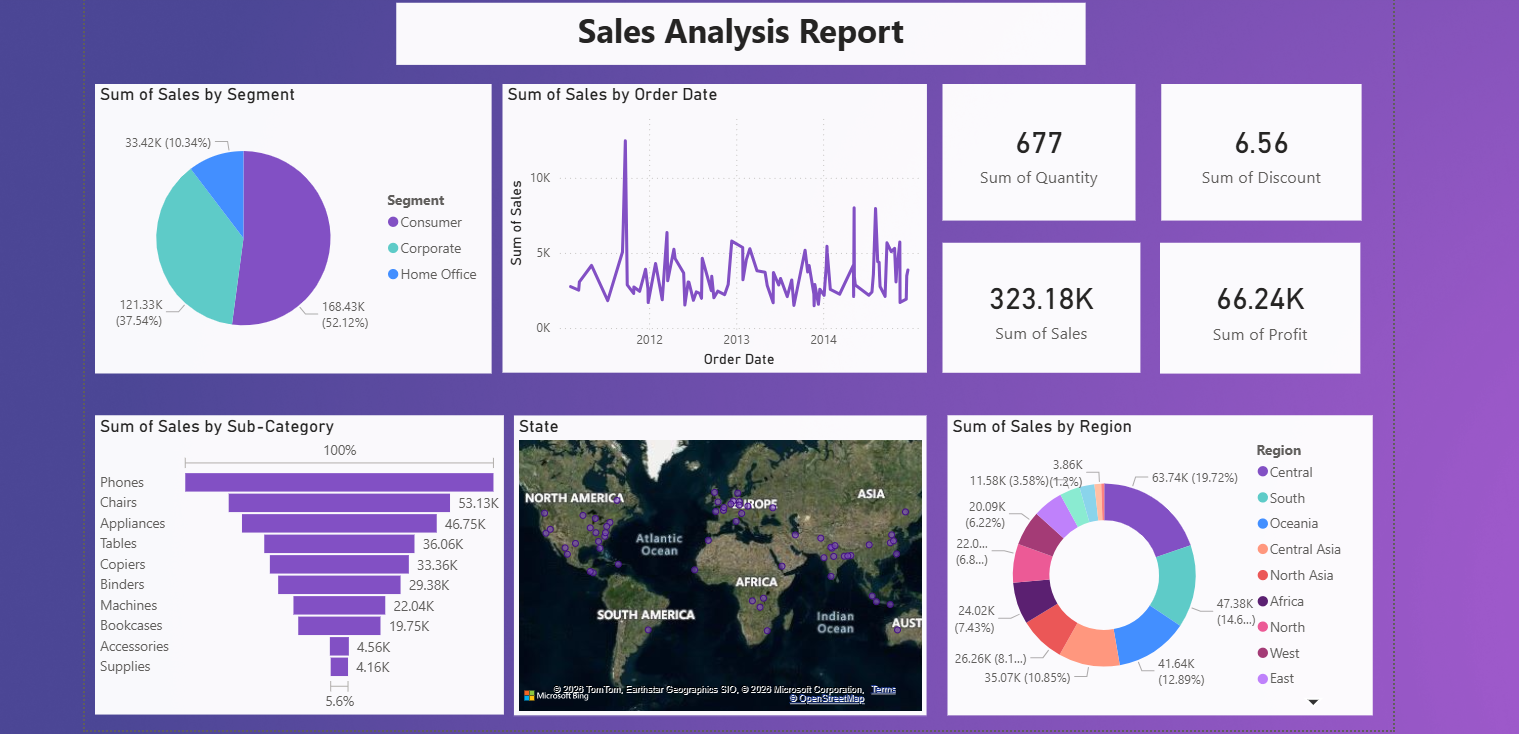

Layout of this report page (visuals, bound fields, positions):
{"tool":"powerbi","page":{"name":"Page 1","canvas":[1280,720],"ordinal":0},"visuals":[{"type":"donutChart","fields":{"Category":["Global-Superstore-PBI.Region"],"Y":["Sum(Global-Superstore-PBI.Sales)"]},"box":[843.2,412.3,416,293.8],"z":0},{"type":"funnel","fields":{"Category":["Global-Superstore-PBI.Sub-Category"],"Y":["Sum(Global-Superstore-PBI.Sales)"]},"box":[9.9,412.7,400,293],"z":1000},{"type":"pieChart","fields":{"Category":["Global-Superstore-PBI.Segment"],"Y":["Sum(Global-Superstore-PBI.Sales)"]},"box":[9.8,87.8,387.8,282.9],"z":2000},{"type":"lineChart","fields":{"Category":["Global-Superstore-PBI.Order Date"],"Y":["Sum(Global-Superstore-PBI.Sales)"]},"box":[408.6,87.7,414.8,282.7],"z":3000},{"type":"card","fields":{"Values":["Sum(Global-Superstore-PBI.Sales)"]},"box":[838.3,243.2,193.8,127.2],"z":4000},{"type":"card","fields":{"Values":["Sum(Global-Superstore-PBI.Profit)"]},"box":[1051.9,243.2,196.3,128.4],"z":5000},{"type":"card","fields":{"Values":["Sum(Global-Superstore-PBI.Quantity)"]},"box":[838.3,87.7,188.9,133.3],"z":6000},{"type":"card","fields":{"Values":["Sum(Global-Superstore-PBI.Discount)"]},"box":[1053.1,87.7,196.3,133.3],"z":7000},{"type":"map","fields":{"Category":["Global-Superstore-PBI.State"]},"box":[419.8,412.3,403.7,293.8],"z":8000},{"type":"textbox","box":[304.9,8.6,674.1,60.5],"z":9000}]}

Visuals, with their boxes in screenshot pixels (x1, y1, x2, y2):
donutChart - Global-Superstore-PBI.Region x Sum(Global-Superstore-PBI.Sales): 941:412:1360:708
funnel - Global-Superstore-PBI.Sub-Category x Sum(Global-Superstore-PBI.Sales): 101:412:504:707
pieChart - Global-Superstore-PBI.Segment x Sum(Global-Superstore-PBI.Sales): 101:85:492:370
lineChart - Global-Superstore-PBI.Order Date x Sum(Global-Superstore-PBI.Sales): 503:84:921:369
card - Sum(Global-Superstore-PBI.Sales): 936:241:1131:369
card - Sum(Global-Superstore-PBI.Profit): 1151:241:1349:371
card - Sum(Global-Superstore-PBI.Quantity): 936:84:1126:219
card - Sum(Global-Superstore-PBI.Discount): 1152:84:1350:219
map - Global-Superstore-PBI.State: 514:412:921:708
textbox: 398:5:1078:66
